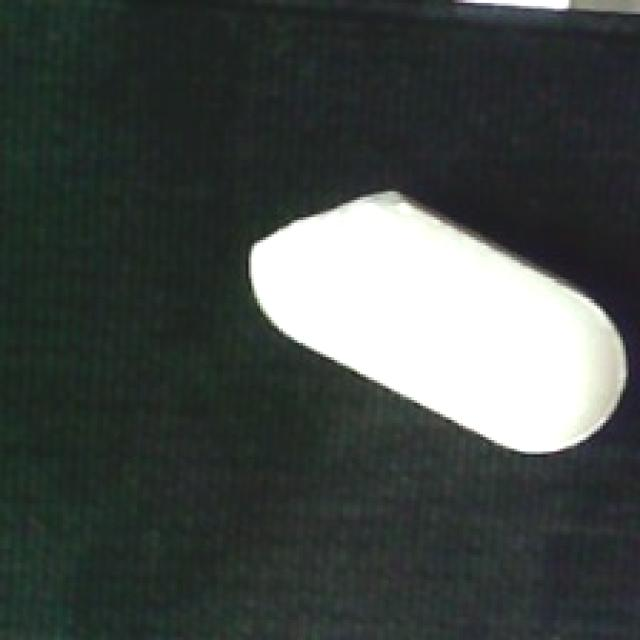defected: (249, 186, 626, 454)
